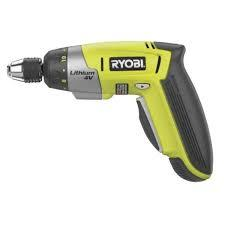screwdriver: (6, 39, 214, 181)
